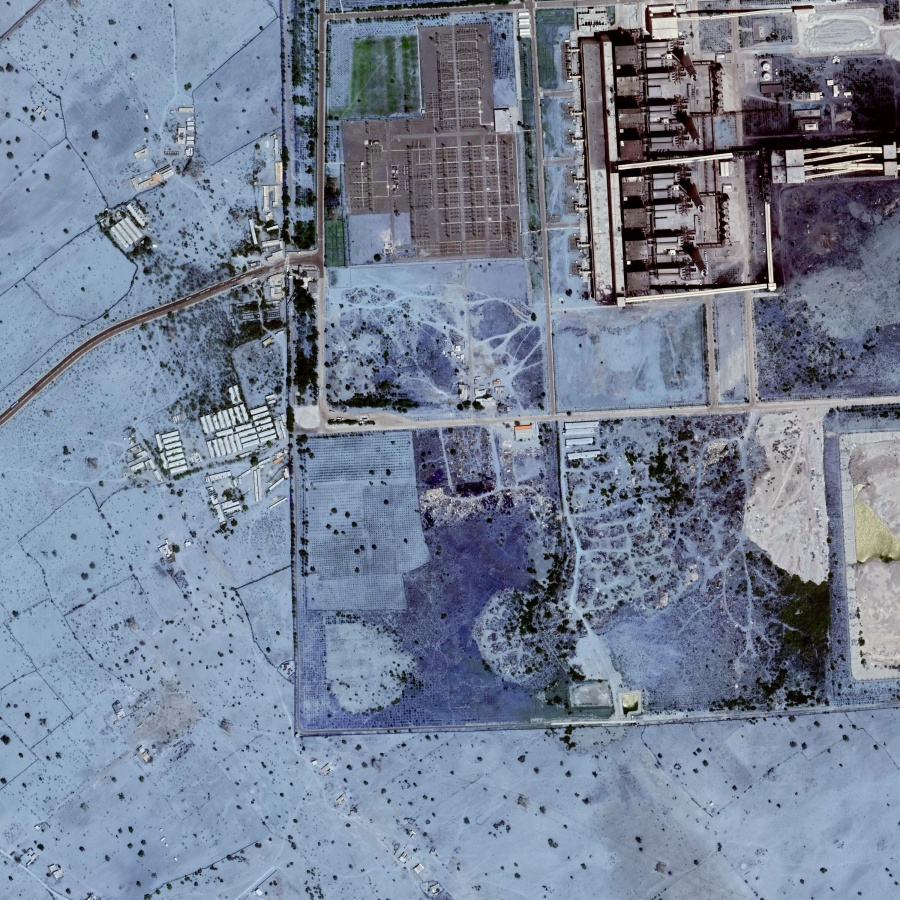PowerPlant: (573, 9, 772, 294)
